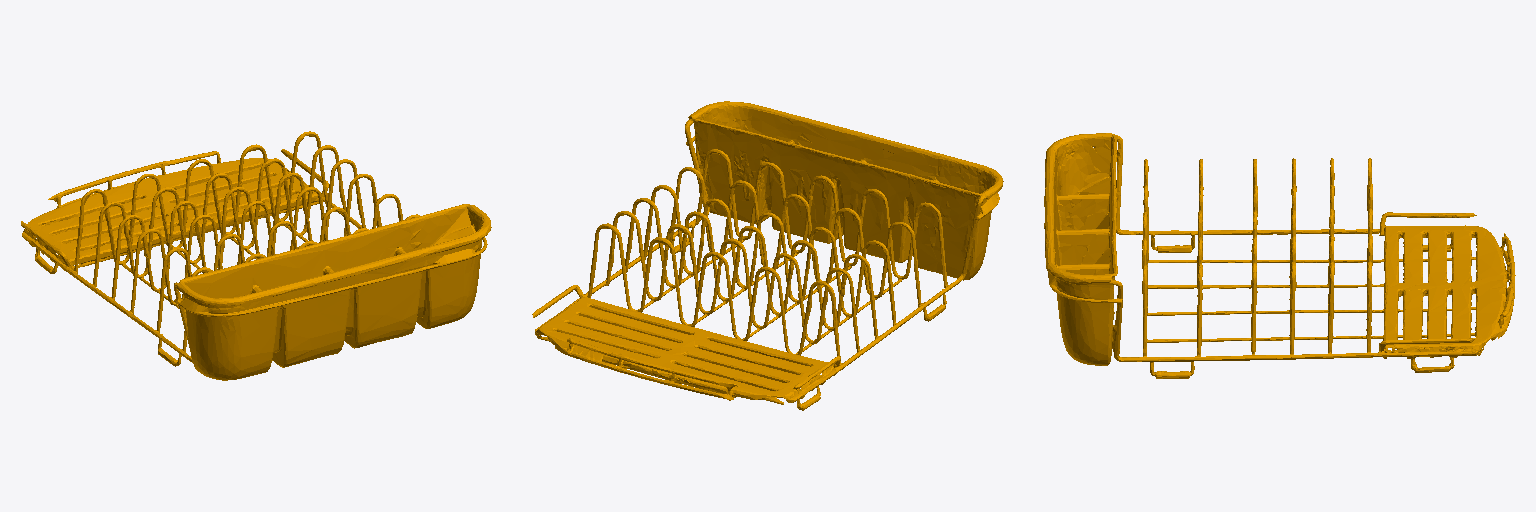
The robot description file, URDF, robot "Rubbermaid_Large_Drainer":
<?xml version="1.0" ?>
<robot name="Rubbermaid_Large_Drainer">
  <link name="link_0">
    <inertial>
      <origin xyz="0 0 0" rpy="0 0 0"/>
      <mass value="1.0"/>
      <inertia ixx="0.1" ixy="0.0" ixz="0.0" iyy="0.1" iyz="0.0" izz="0.1"/>
    </inertial>
    <visual name="visual">
      <origin xyz="0 0 0" rpy="0 0 0"/>
      <geometry>
        <mesh filename="meshes/model.obj"/>
      </geometry>
    </visual>
    <collision name="collision_0">
      <origin xyz="0 0 0" rpy="0 0 0"/>
      <geometry>
        <mesh filename="meshes/model.obj"/>
      </geometry>
    </collision>
  </link>
</robot>

--- Render facts (derived) ---
Views: 3 orthographic renders of the robot side by side, from view 1: azimuth 30°, elevation 25°; view 2: azimuth 150°, elevation 25°; view 3: azimuth 270°, elevation 25°.
Model Rubbermaid_Large_Drainer with 1 links and 0 joints (none), rooted at link_0, posed every joint at zero.
Links seen in each view (by area): view 1: link_0; view 2: link_0; view 3: link_0.
Link boxes in pixels (box(x1,y1,x2,y2)): link_0: box(21, 131, 491, 380); link_0: box(532, 101, 1003, 410); link_0: box(1044, 133, 1515, 378).
Size in the robot's own frame: 0.3393 by 0.4423 by 0.1207 metres.
Meshes: 1 distinct files referenced, 1 mesh visuals loaded (1 OBJ).